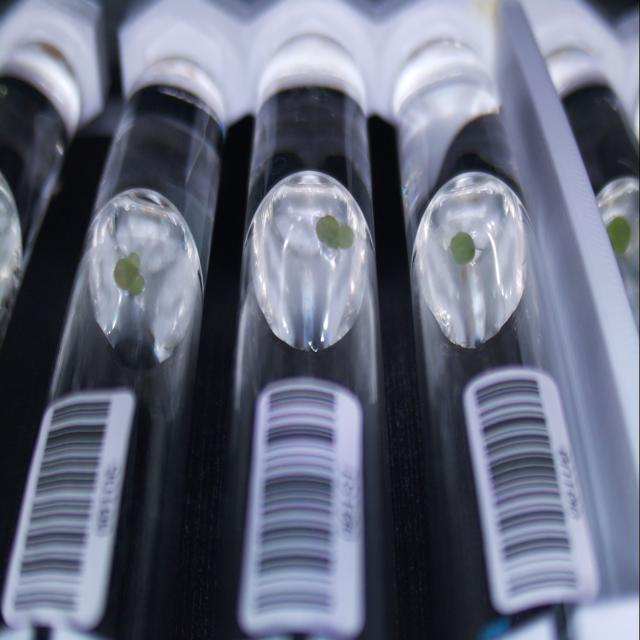Lemna-Gibba: (114, 252, 144, 295), (316, 215, 354, 248), (450, 232, 475, 265)
